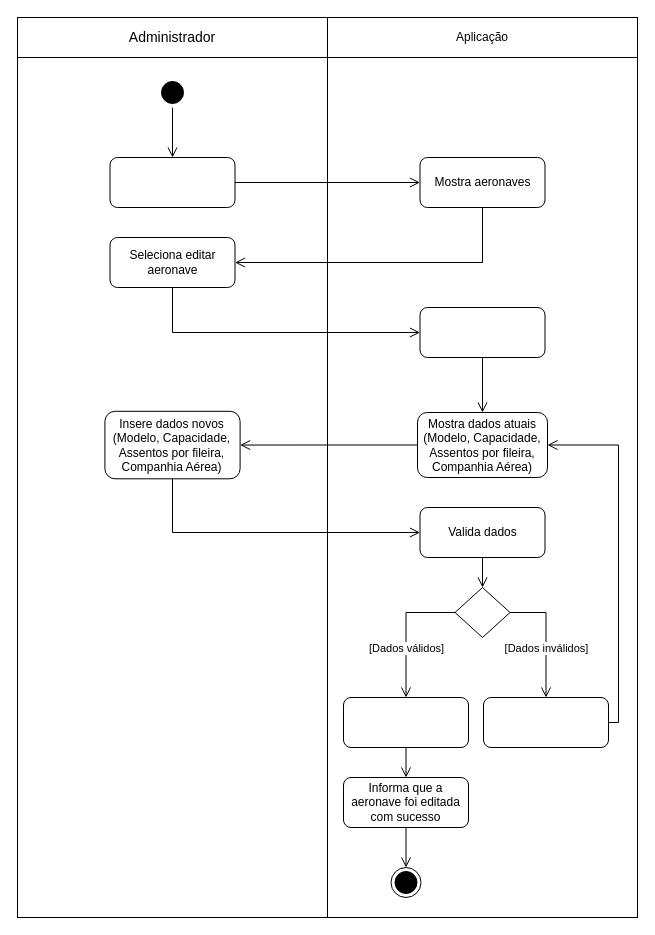
This 655x935 diagram has some shape labels left out. The box of each missing label's shape, as (x1, y1, x2, y2) in pixels:
Abre tela de editar aeronave: (419, 306, 545, 358)
Edita aeronave: (342, 696, 468, 748)
Entra na tela de ver aeronaves: (109, 156, 235, 208)
Informa que os dados são inválidos: (482, 696, 608, 748)
